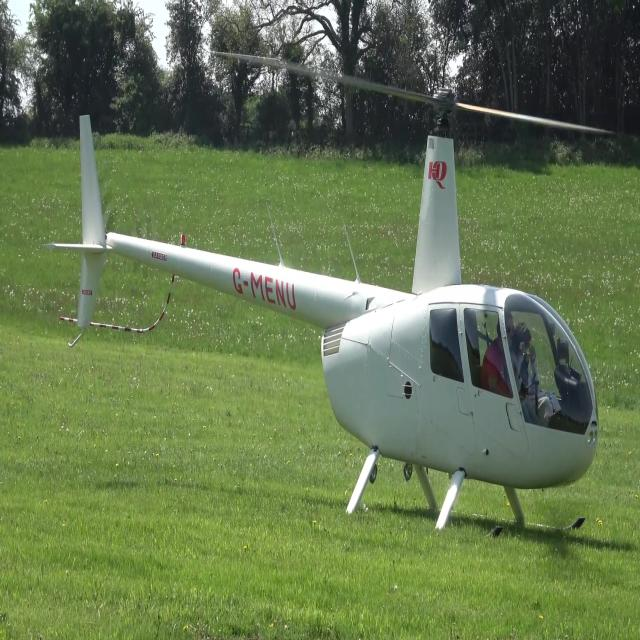CIV_HELO: (40, 86, 602, 553)
